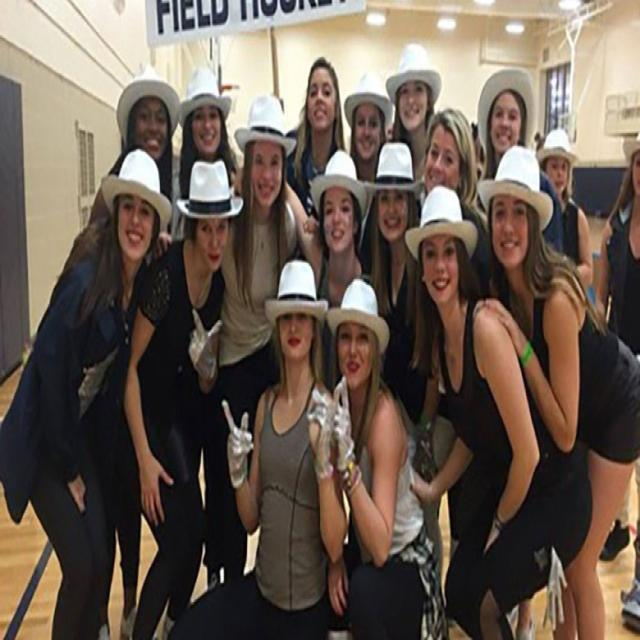body: (0, 146, 173, 639), (473, 142, 639, 638), (162, 258, 351, 638), (401, 182, 542, 638), (120, 160, 244, 640), (83, 61, 183, 640), (214, 95, 305, 587), (326, 276, 443, 639), (227, 144, 377, 394), (355, 140, 438, 437), (592, 120, 640, 609), (420, 106, 496, 306), (165, 66, 244, 248), (471, 66, 546, 213), (284, 57, 349, 224), (343, 70, 393, 275), (536, 127, 596, 288), (385, 41, 442, 181), (466, 116, 490, 182)
